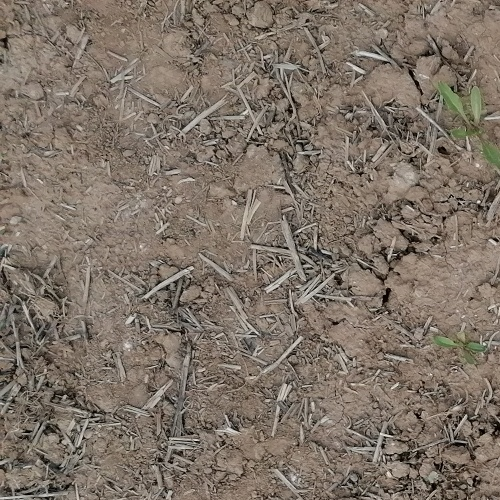beet: (439, 82, 500, 168), (433, 336, 484, 365)
